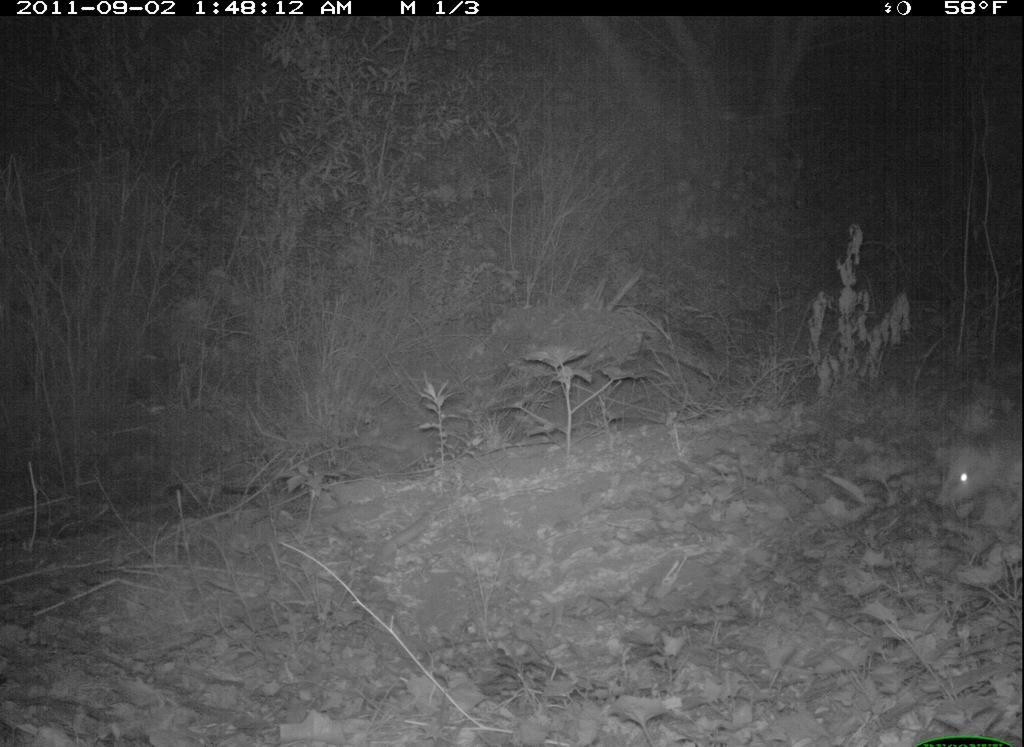opossum: (916, 416, 1024, 542)
